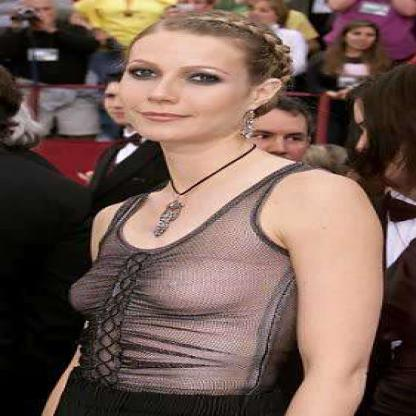face: (119, 15, 259, 147), (231, 100, 313, 177), (103, 73, 155, 125), (348, 23, 379, 51), (251, 1, 280, 27), (28, 2, 57, 28)
